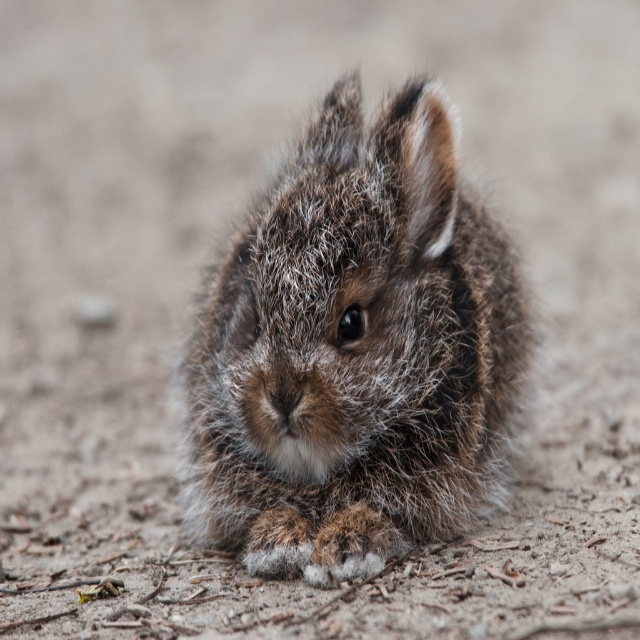Rabbit: (162, 57, 566, 591)
